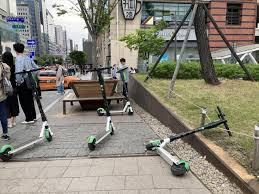fallin_kick: (145, 104, 231, 175)
kick_board: (84, 66, 115, 146)
kick_handler: (15, 66, 45, 72), (86, 67, 112, 72)
kick_neck: (97, 75, 109, 121)
kick_wheel: (2, 145, 13, 159), (88, 138, 97, 150), (44, 130, 53, 141), (108, 124, 116, 135), (127, 106, 134, 115), (97, 108, 104, 114)
